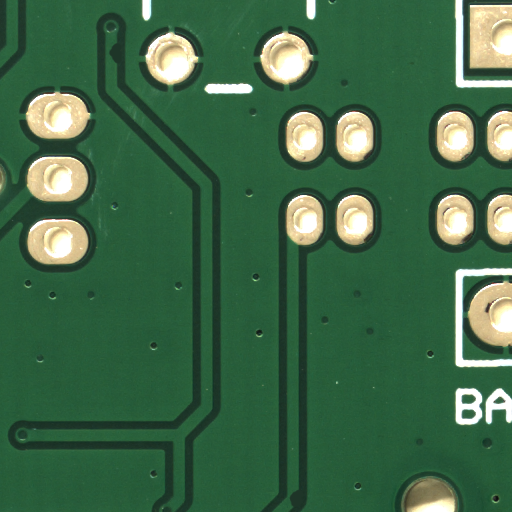Mouse_bite: (113, 53, 123, 74), (296, 499, 309, 512)
